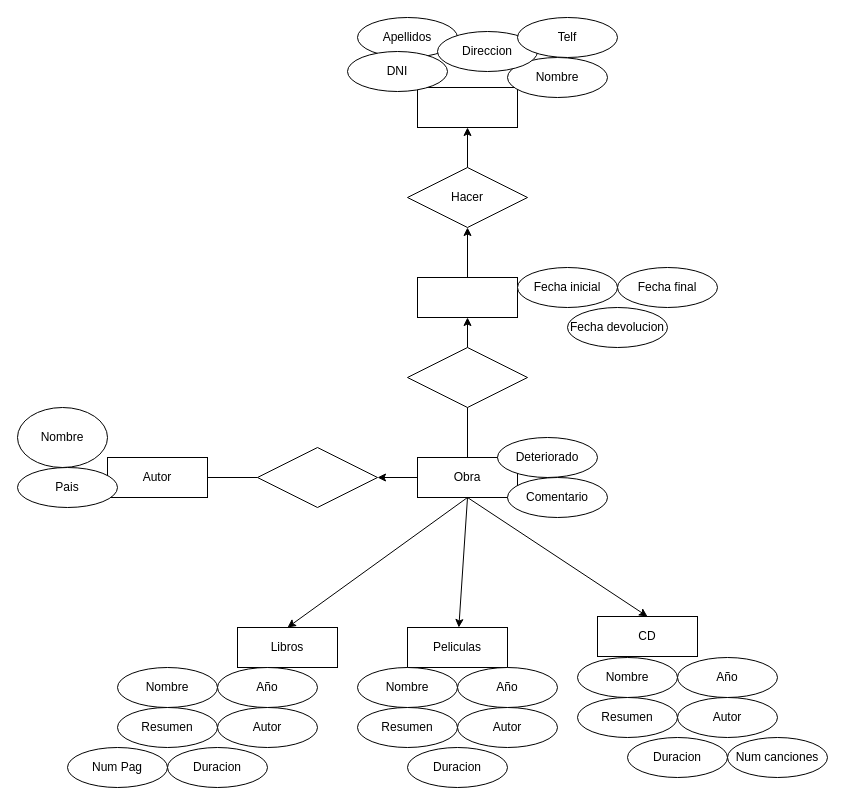
Image size: 845x805. Some labels were removed from this diagram. The box of each missing label's shape, as (x1, y1, x2, y2) in pixels:
Crea: (256, 446, 378, 508)
Prestamos: (416, 276, 518, 318)
Realizar: (406, 346, 528, 408)
Socio: (416, 86, 518, 128)
